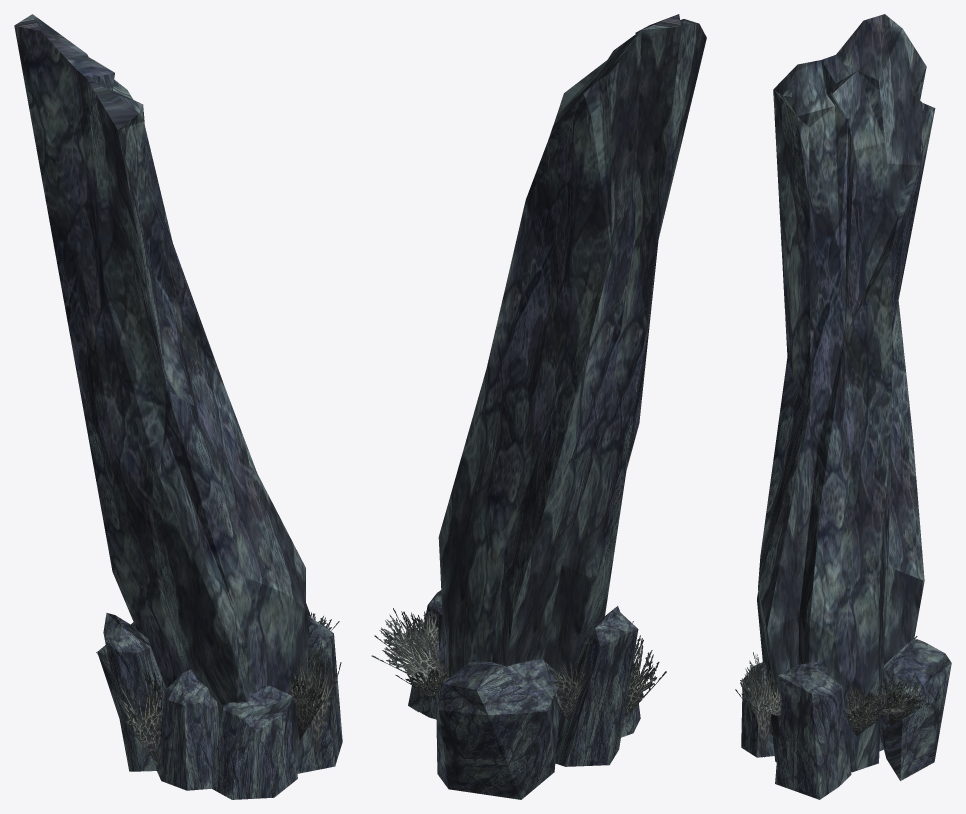
The model's file is C4SNLARGEROCKF.obj.
3 renders of one model, left to right at view 1: azimuth 30°, elevation 25°; view 2: azimuth 150°, elevation 25°; view 3: azimuth 270°, elevation 25°, orthographic. The views are drawn at different scales.
Parts seen in each view (by area): view 1: Node 0; view 2: Node 0; view 3: Node 0.
Boxes of the visible parts, bbox=[...] form: Node 0: bbox=[14, 14, 342, 799]; Node 0: bbox=[371, 14, 706, 799]; Node 0: bbox=[735, 14, 951, 799].
Size of the model in its own units: 23.26 by 56.69 by 16.59.
2 materials, 2 textured.
